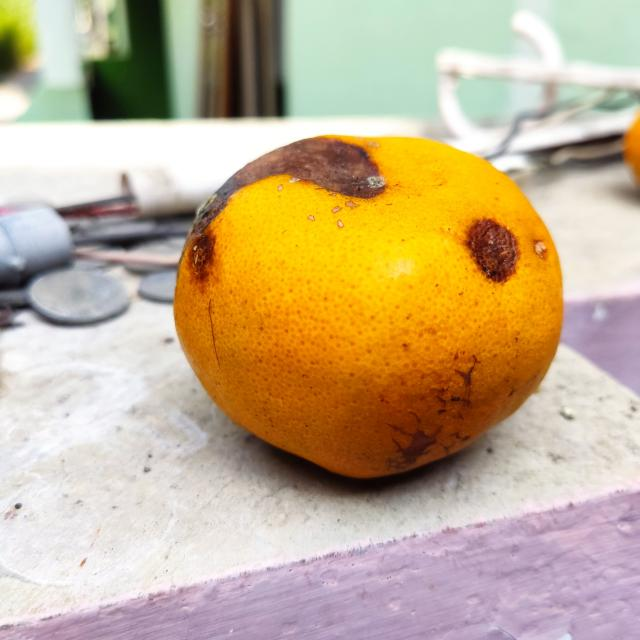orange: (170, 132, 564, 482)
